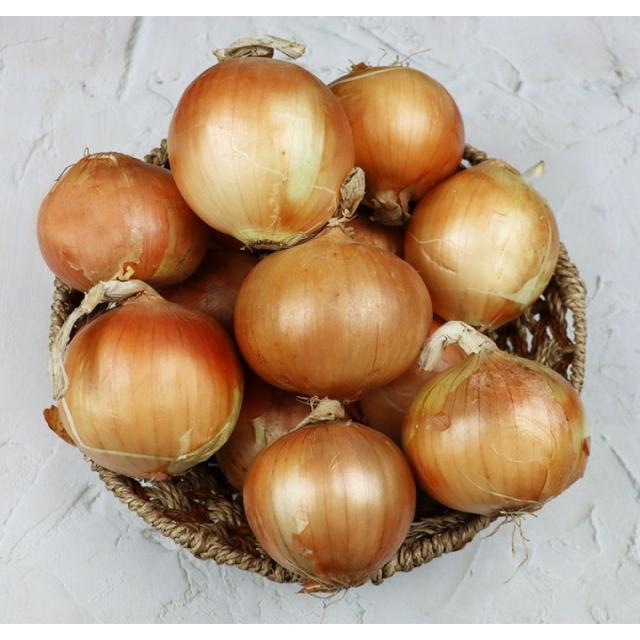onion: (36, 38, 593, 594), (164, 47, 354, 249), (49, 293, 244, 487), (234, 229, 433, 400), (244, 412, 416, 592)
